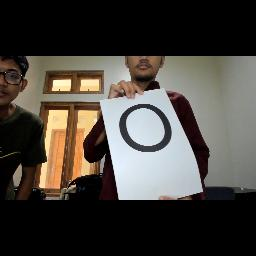o: (116, 100, 174, 154)
